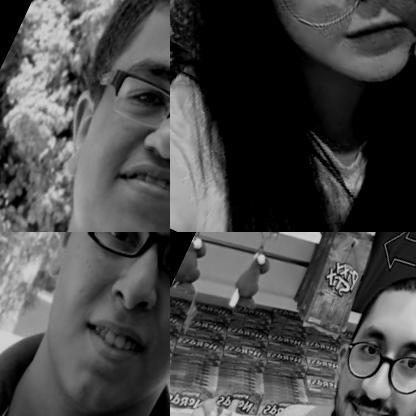glasses: (253, 0, 415, 83), (91, 42, 169, 178), (55, 232, 169, 312), (332, 322, 415, 414)
